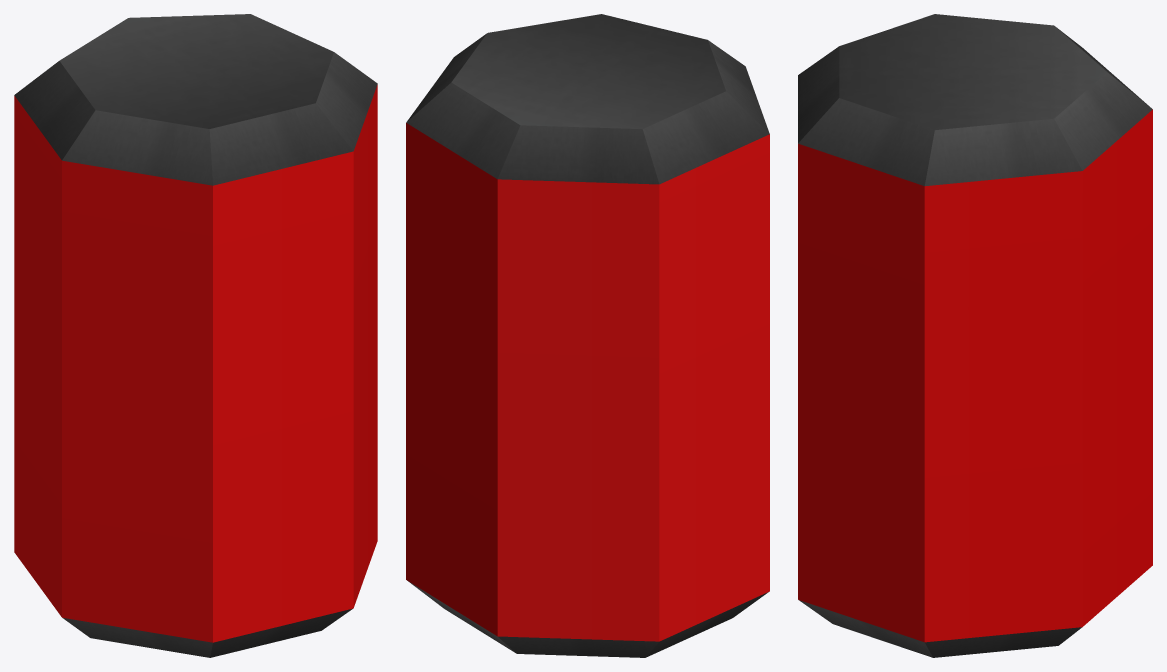
Rendered from low_poly_can.fbx.
3 renders of one model, left to right at view 1: azimuth 30°, elevation 25°; view 2: azimuth 150°, elevation 25°; view 3: azimuth 270°, elevation 25°, orthographic.
Visible parts, largest first — view 1: Cylinder; view 2: Cylinder; view 3: Cylinder.
Part boxes in pixels (x1=…): Cylinder: x1=14, y1=14, x2=377, y2=657; Cylinder: x1=406, y1=14, x2=769, y2=657; Cylinder: x1=798, y1=14, x2=1152, y2=657.
Bounding box in the file's own units: 76.04 × 121 × 74.14.
